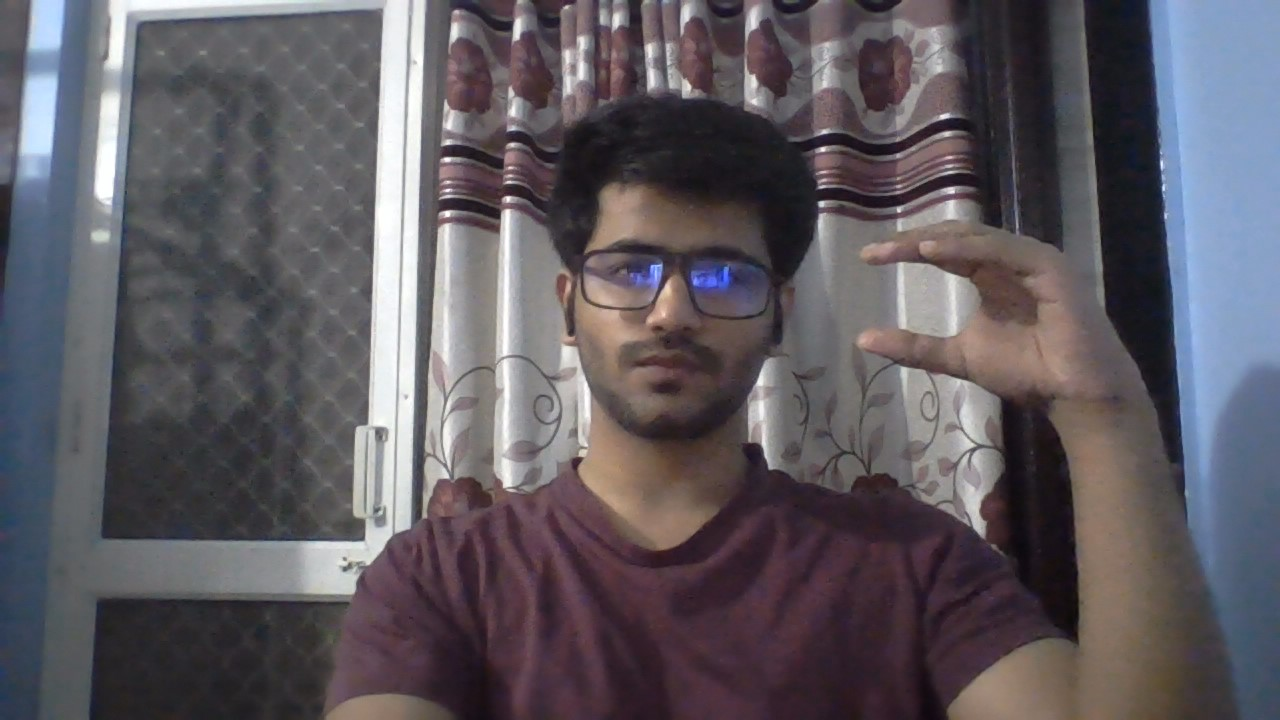C: (837, 191, 1162, 446)
